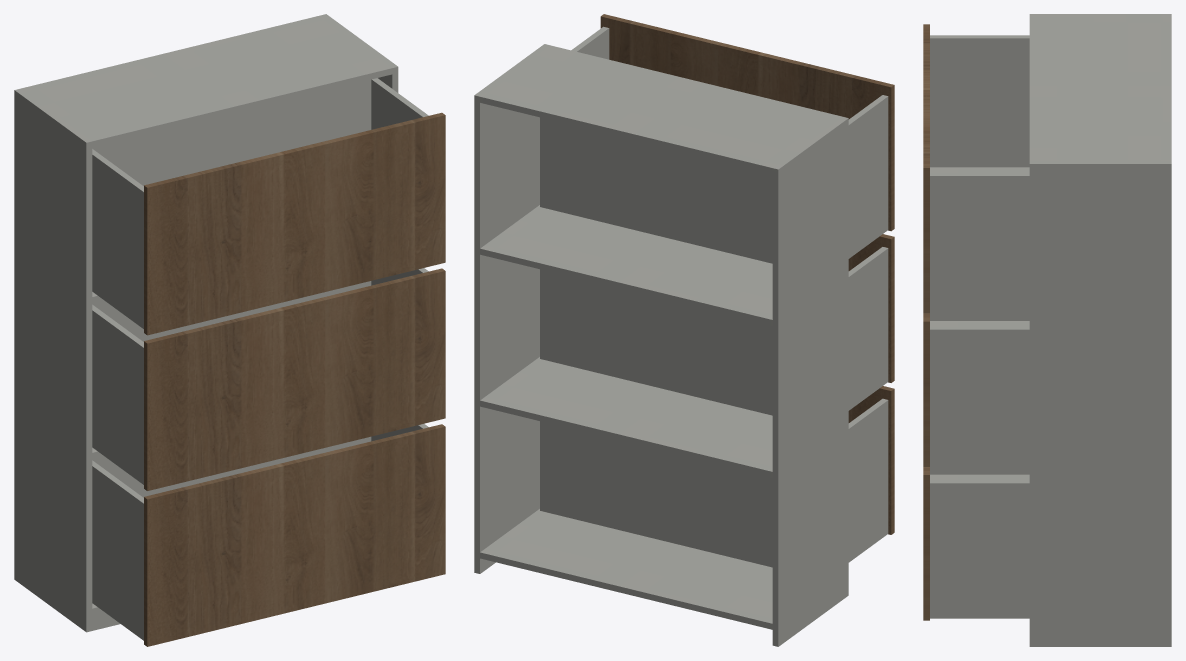
File: meuble.glb
The picture shows the model from 3 angles, left to right: view 1: azimuth 30°, elevation 25°; view 2: azimuth 150°, elevation 25°; view 3: azimuth 270°, elevation 25°; orthographic projection. The views are drawn at different scales.
Visible parts, largest first — view 1: world; view 2: world; view 3: world.
Part boxes in pixels (box(x1,y1,x2,y2)): world: box(14, 14, 445, 646); world: box(474, 14, 894, 646); world: box(923, 14, 1171, 646).
Bounding box in the file's own units: 1 × 1.5 × 0.7.
1 material, 1 textured.
